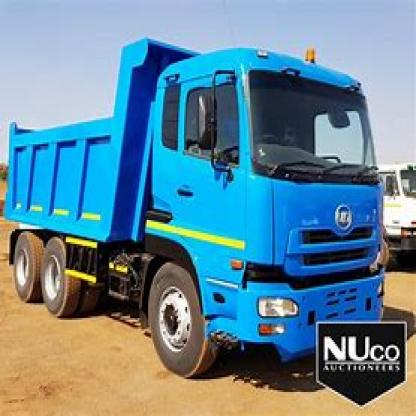dump_truck: (6, 26, 411, 370)
